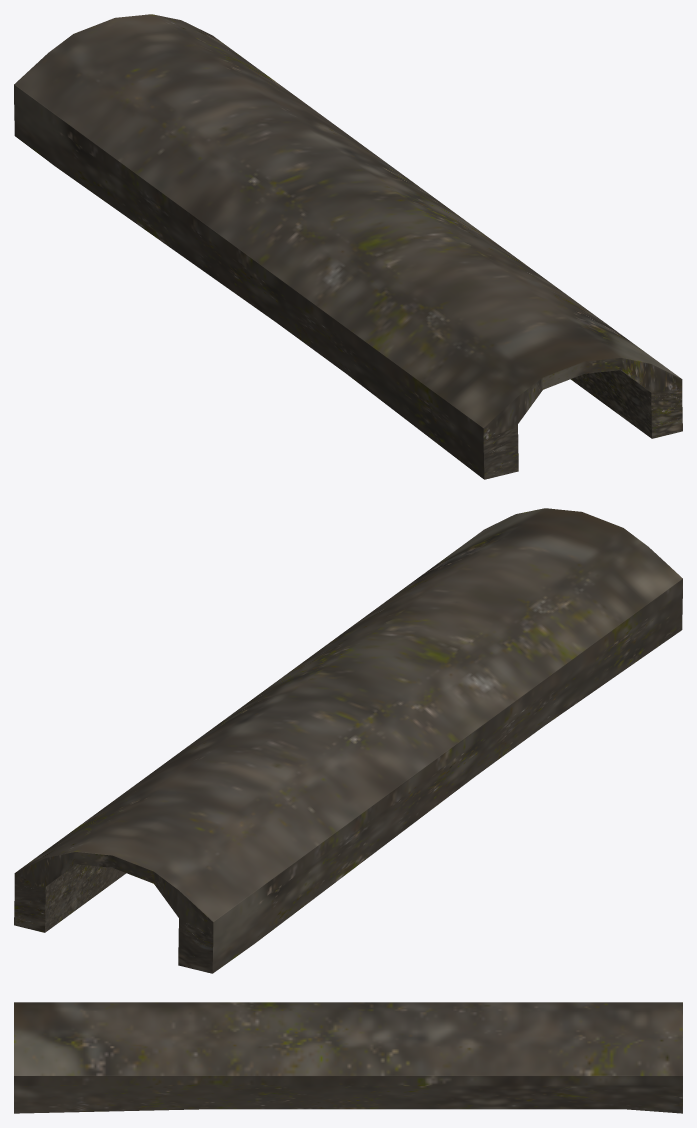
The model's file is CeilingTwo.fbx.
3 views of the same model, one above another, from view 1: azimuth 30°, elevation 25°; view 2: azimuth 150°, elevation 25°; view 3: azimuth 270°, elevation 25° (orthographic). The views are drawn at different scales.
Parts seen in each view (by area): view 1: polySurface23; view 2: polySurface23; view 3: polySurface23.
Part boxes in pixels (box(x1,y1,x2,y2)): polySurface23: box(14, 14, 682, 479); polySurface23: box(14, 508, 682, 973); polySurface23: box(14, 1002, 682, 1113).
Bounding box in the file's own units: 846 × 380 × 3450.
1 material, 1 textured.
